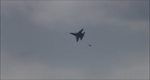maybay_muctieu: (69, 28, 86, 42)
